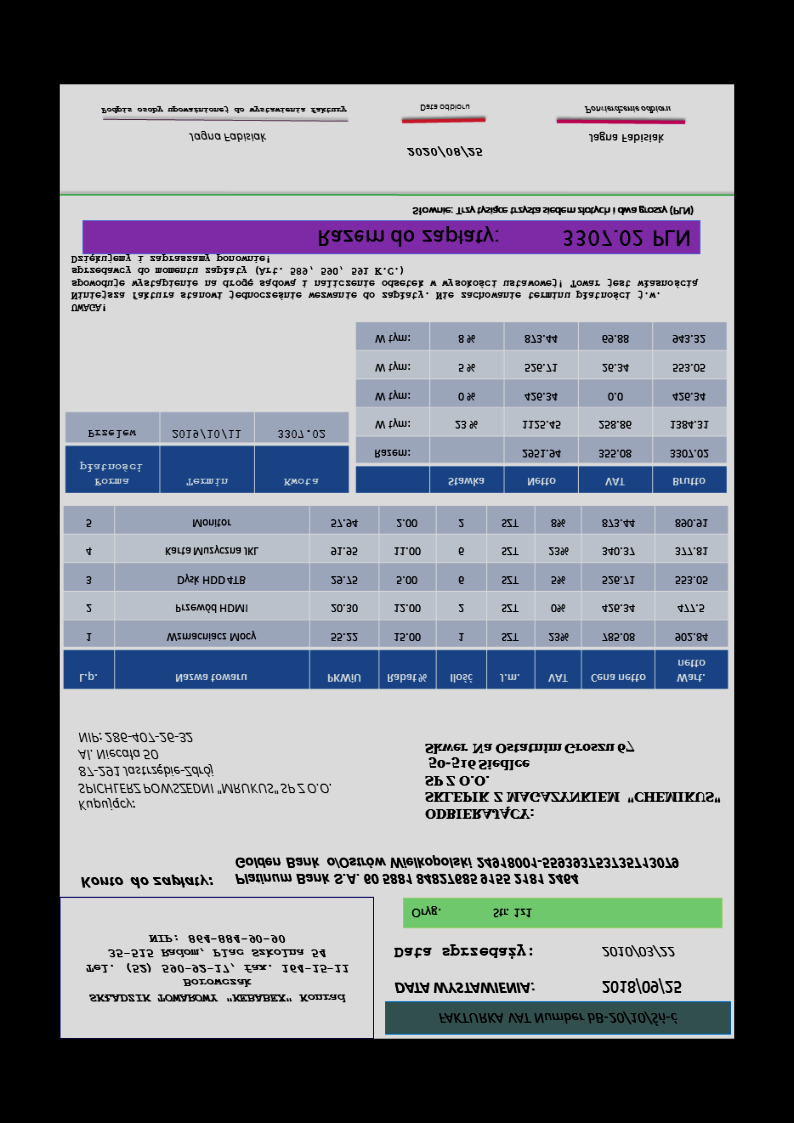Table: (61, 506, 729, 691), (355, 321, 728, 494), (63, 410, 350, 496)
TextBox: (69, 252, 699, 314), (423, 740, 721, 821), (75, 730, 332, 814), (85, 932, 351, 1006), (232, 854, 680, 888), (315, 224, 691, 251), (410, 202, 695, 219), (435, 1009, 681, 1027), (99, 104, 348, 117), (392, 942, 536, 962), (77, 871, 214, 891), (392, 979, 537, 996), (409, 904, 534, 921), (599, 978, 683, 997), (582, 103, 672, 117), (600, 944, 677, 959), (587, 131, 664, 145), (187, 131, 267, 144), (406, 145, 485, 158), (417, 101, 472, 114)
